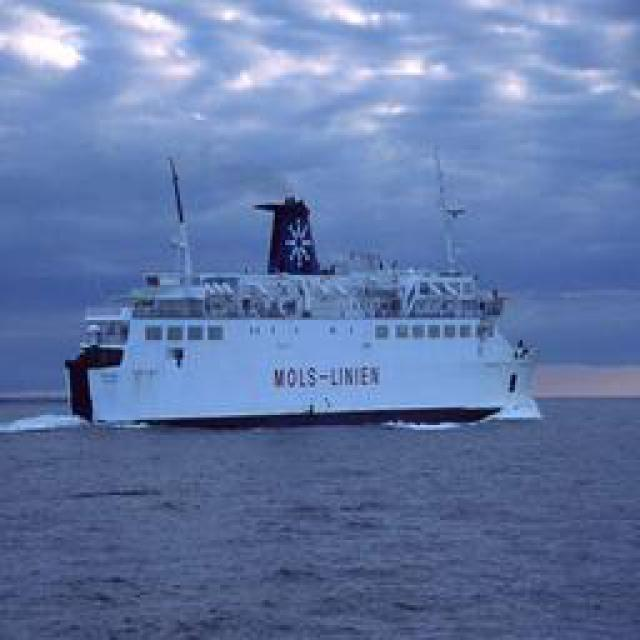Ship: (66, 155, 536, 420)
